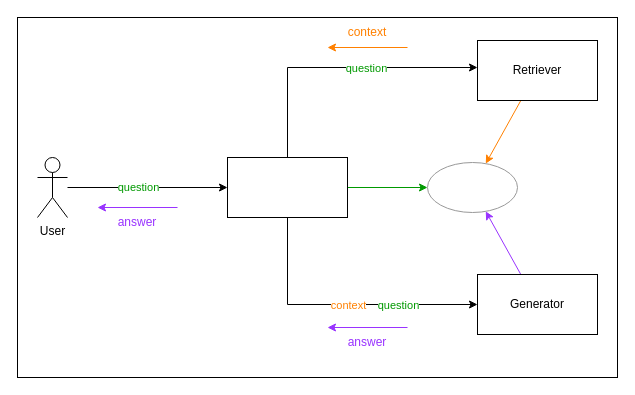
Image size: 635x395. Some labels were removed from this diagram. Here are the shapes that lost their labels. From the top down, the centre of each, then its label:
At pixel 287 187: "Application".
At pixel 472 187: "Quality".
